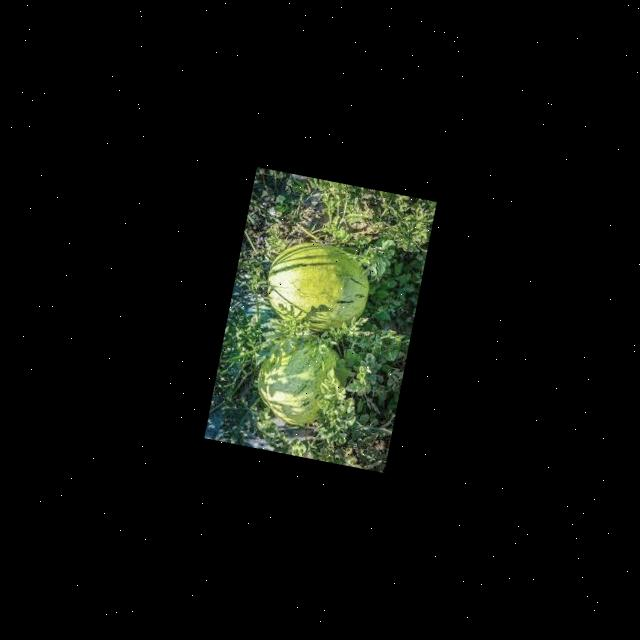watermelon: (258, 234, 376, 341), (250, 330, 354, 432), (342, 338, 369, 370)
